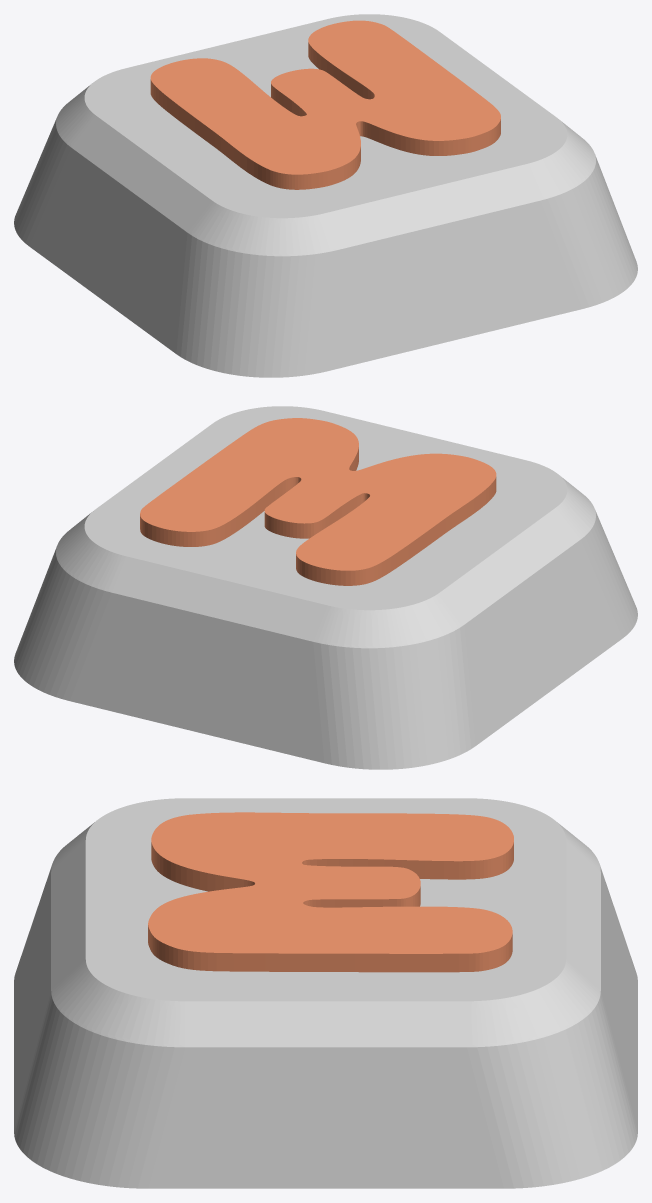
Rendered from cap-W.glb.
The picture shows the model from 3 angles, top to bottom: view 1: azimuth 30°, elevation 25°; view 2: azimuth 150°, elevation 25°; view 3: azimuth 270°, elevation 25°; orthographic projection. The views are drawn at different scales.
Parts seen in each view (by area): view 1: cap_0, glyph_1; view 2: cap_0, glyph_1; view 3: cap_0, glyph_1.
Part boxes in pixels (<box>): cap_0: <box>14,14,637,377</box>; glyph_1: <box>150,20,500,189</box>; cap_0: <box>14,406,637,769</box>; glyph_1: <box>140,418,496,585</box>; cap_0: <box>14,798,637,1188</box>; glyph_1: <box>148,812,513,972</box>.
Size of the model in its own units: 18 by 5.59 by 18.
